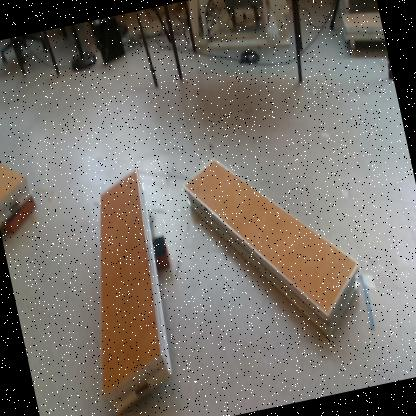Stairs: (185, 157, 361, 342), (100, 166, 173, 415), (1, 162, 33, 228)
